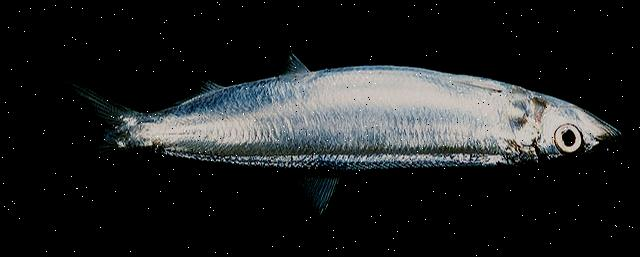Mulut: (598, 104, 632, 164)
Sirip Anal: (162, 73, 228, 113)
Sirip Dada: (432, 68, 508, 102)
Sirip Ekor: (32, 59, 128, 195)
Sirip Perut: (264, 46, 314, 86)
Sirip Punggung: (274, 167, 346, 223)
